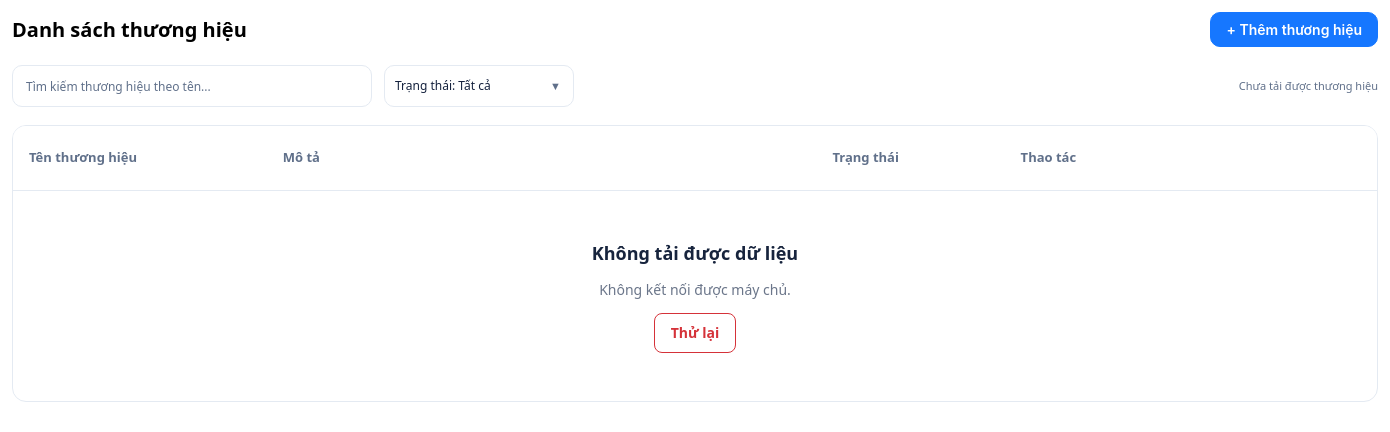
Test: API errors stay distinct from an empty list and retry recovers
Check: the text "Không kết nối được máy chủ." is shown, box [599,278,791,301]
Check: the text "Hiển thị 0 thương hiệu" is not shown
Click the button "Thử lại": (695, 333) [654,313,736,353]
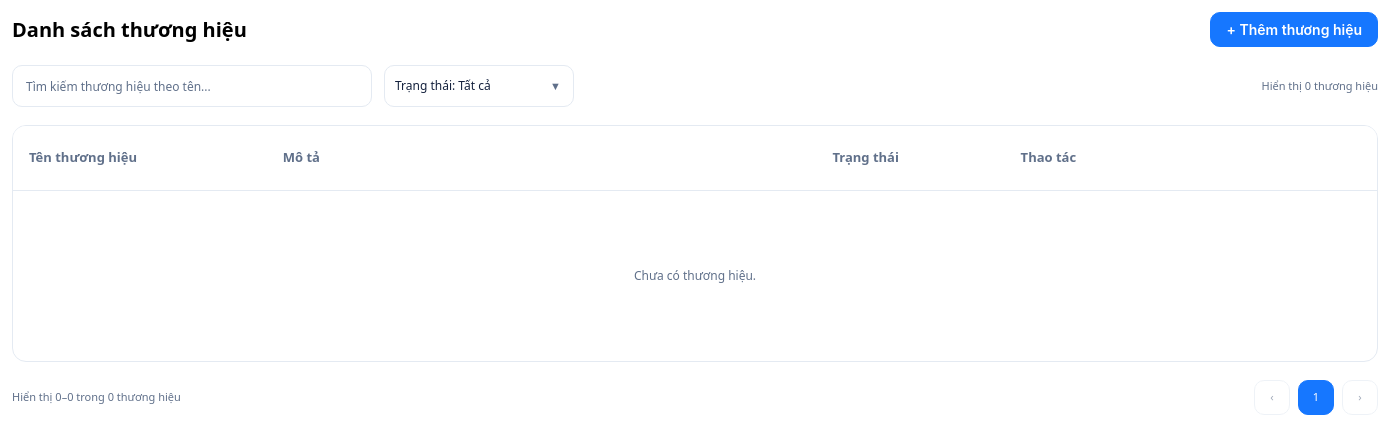
Check: the heading "Chưa có thương hiệu." is shown, box [634,268,756,284]
